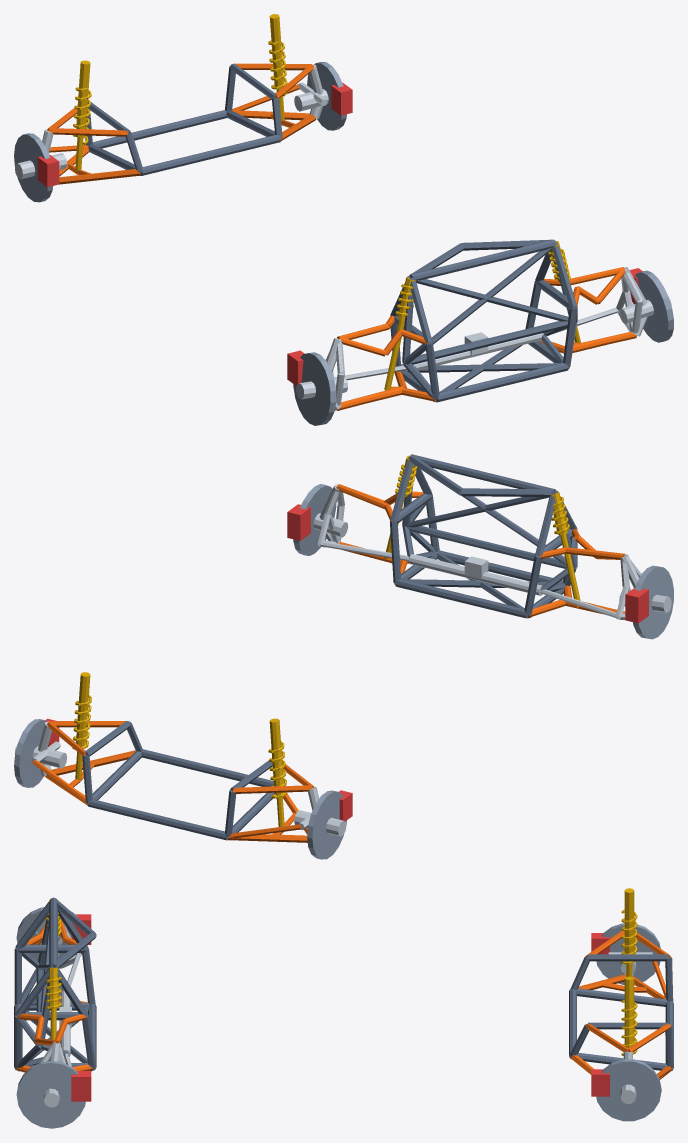
Rendered from driftmod_suspension.dae.
3 views of the same model, one above another, from view 1: azimuth 30°, elevation 25°; view 2: azimuth 150°, elevation 25°; view 3: azimuth 270°, elevation 25° (orthographic). The views are drawn at different scales.
Visible parts, largest first — view 1: driftmod_subframe_F, driftmod_subframe_R, driftmod_rotor_FR, driftmod_arms_RR, driftmod_arms_RL, driftmod_steering_F, driftmod_rotor_FL, driftmod_rotor_RR, driftmod_knuckle_FL, driftmod_coilover_RR, driftmod_rotor_RL, driftmod_knuckle_FR (+10 smaller); view 2: driftmod_subframe_F, driftmod_subframe_R, driftmod_steering_F, driftmod_arms_RR, driftmod_arms_RL, driftmod_rotor_FR, driftmod_rotor_RR, driftmod_rotor_RL, driftmod_knuckle_FL, driftmod_rotor_FL, driftmod_coilover_RL, driftmod_coilover_RR (+8 smaller); view 3: driftmod_subframe_F, driftmod_subframe_R, driftmod_rotor_FL, driftmod_rotor_RL, driftmod_rotor_RR, driftmod_arms_RR, driftmod_coilover_RR, driftmod_coilover_RL, driftmod_arms_RL, driftmod_coilover_FL, driftmod_steering_F, driftmod_uca_FL (+4 smaller).
Part boxes in pixels (left/top/right/bottom): driftmod_subframe_F: left=390, top=239, right=577, bottom=402; driftmod_subframe_R: left=85, top=63, right=282, bottom=175; driftmod_rotor_FR: left=293, top=352, right=336, bottom=425; driftmod_arms_RR: left=47, top=108, right=140, bottom=184; driftmod_arms_RL: left=232, top=63, right=316, bottom=140; driftmod_steering_F: left=335, top=308, right=617, bottom=380; driftmod_rotor_FL: left=633, top=270, right=673, bottom=342; driftmod_rotor_RR: left=14, top=133, right=53, bottom=202; driftmod_knuckle_FL: left=616, top=267, right=671, bottom=336; driftmod_coilover_RR: left=72, top=60, right=91, bottom=172; driftmod_rotor_RL: left=307, top=62, right=346, bottom=130; driftmod_knuckle_FR: left=296, top=338, right=348, bottom=410; driftmod_subframe_F: left=390, top=454, right=577, bottom=618; driftmod_subframe_R: left=82, top=721, right=275, bottom=840; driftmod_steering_F: left=319, top=541, right=618, bottom=618; driftmod_arms_RR: left=228, top=763, right=314, bottom=842; driftmod_arms_RL: left=33, top=721, right=135, bottom=805; driftmod_rotor_FR: left=633, top=565, right=673, bottom=639; driftmod_rotor_RR: left=307, top=790, right=346, bottom=859; driftmod_rotor_RL: left=14, top=719, right=46, bottom=787; driftmod_knuckle_FL: left=313, top=484, right=348, bottom=547; driftmod_rotor_FL: left=293, top=484, right=336, bottom=555; driftmod_coilover_RL: left=72, top=672, right=91, bottom=781; driftmod_coilover_RR: left=268, top=718, right=287, bottom=826; driftmod_subframe_F: left=14, top=897, right=96, bottom=1071; driftmod_subframe_R: left=569, top=954, right=673, bottom=1070; driftmod_rotor_FL: left=16, top=1060, right=85, bottom=1128; driftmod_rotor_RL: left=596, top=1059, right=661, bottom=1121; driftmod_rotor_RR: left=596, top=923, right=660, bottom=984; driftmod_arms_RR: left=578, top=930, right=670, bottom=999; driftmod_coilover_RR: left=621, top=888, right=637, bottom=976; driftmod_coilover_RL: left=621, top=976, right=637, bottom=1055; driftmod_arms_RL: left=570, top=1023, right=672, bottom=1079; driftmod_coilover_FL: left=45, top=967, right=61, bottom=1039; driftmod_steering_F: left=59, top=954, right=80, bottom=1066; driftmod_uca_FL: left=16, top=1013, right=87, bottom=1045.
Size of the model in its own units: 1.76 by 2.86 by 0.5799.
